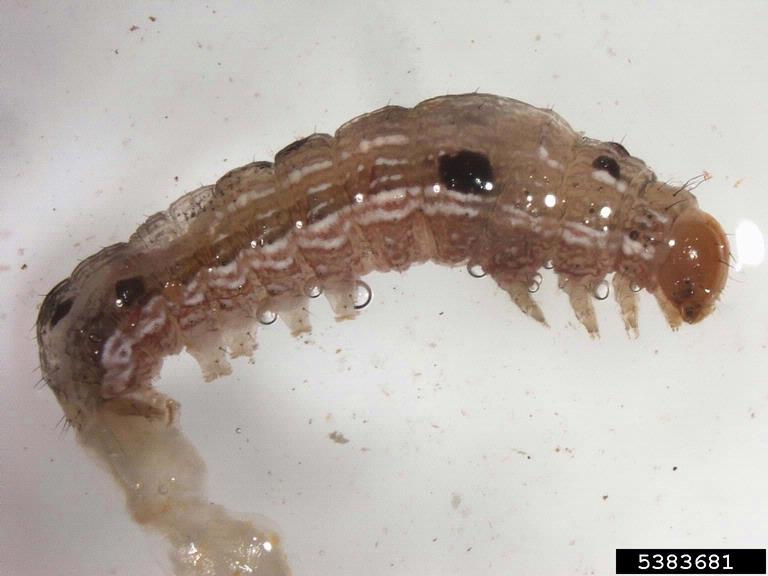Armyworm: (76, 95, 751, 454)
